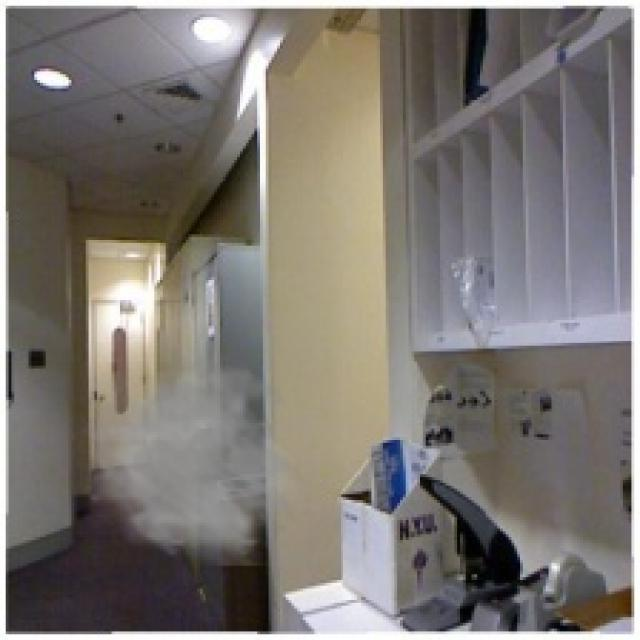Smoke: (80, 348, 306, 566)
